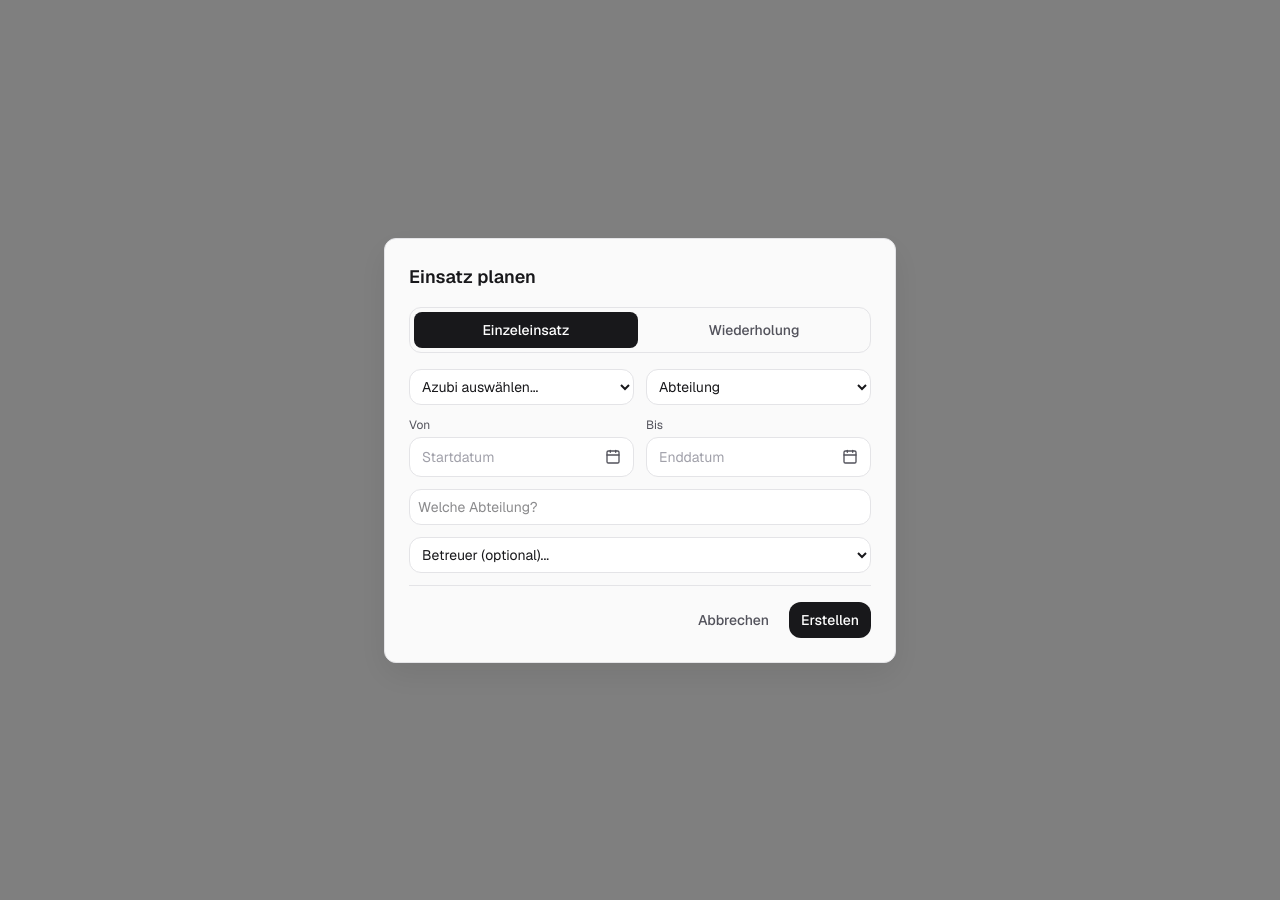
AssignmentModal › shows description placeholder for other type
Select "Sonstiges" in the dropdown named "Einsatztyp": coordinates (758, 386) [646,368,871,404]
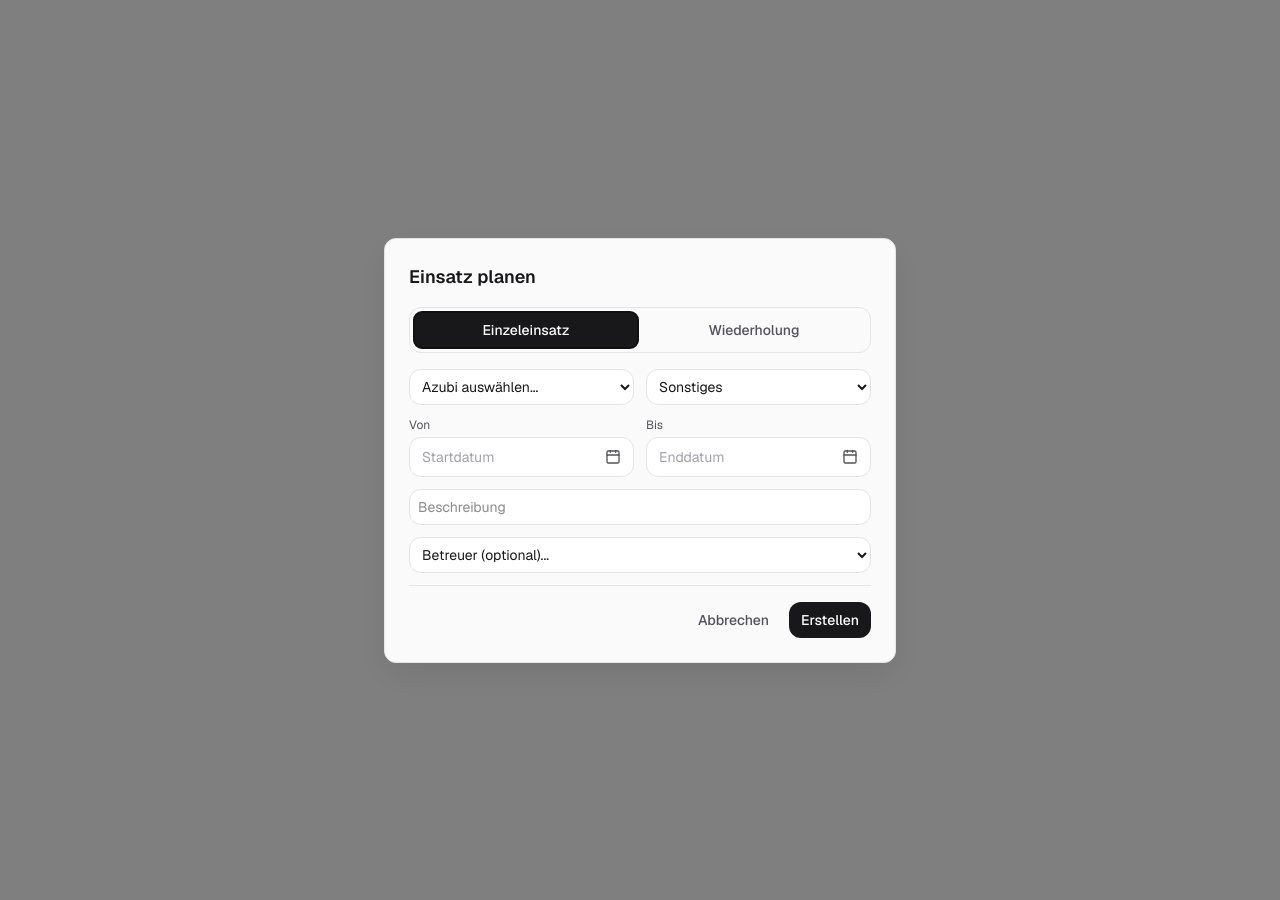
Result: the field with placeholder "Beschreibung" is shown at [409,488,871,524]
